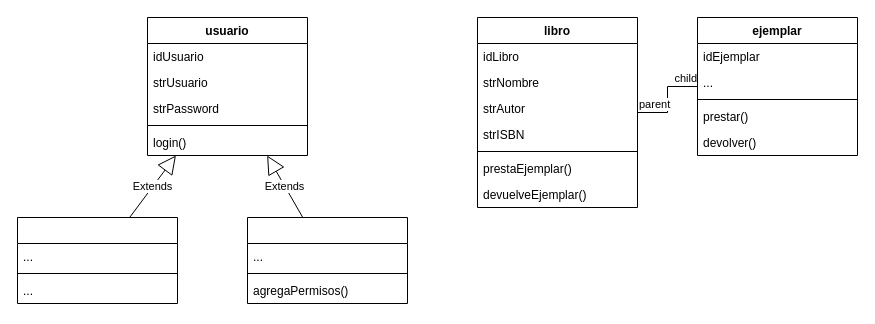
Image size: 875x324. Some labels were removed from this diagram. Here are the shapes that lost their labels. From the top down, the box of each, then its label:
(16, 216, 178, 304): estudiante
(246, 216, 408, 304): empleado
